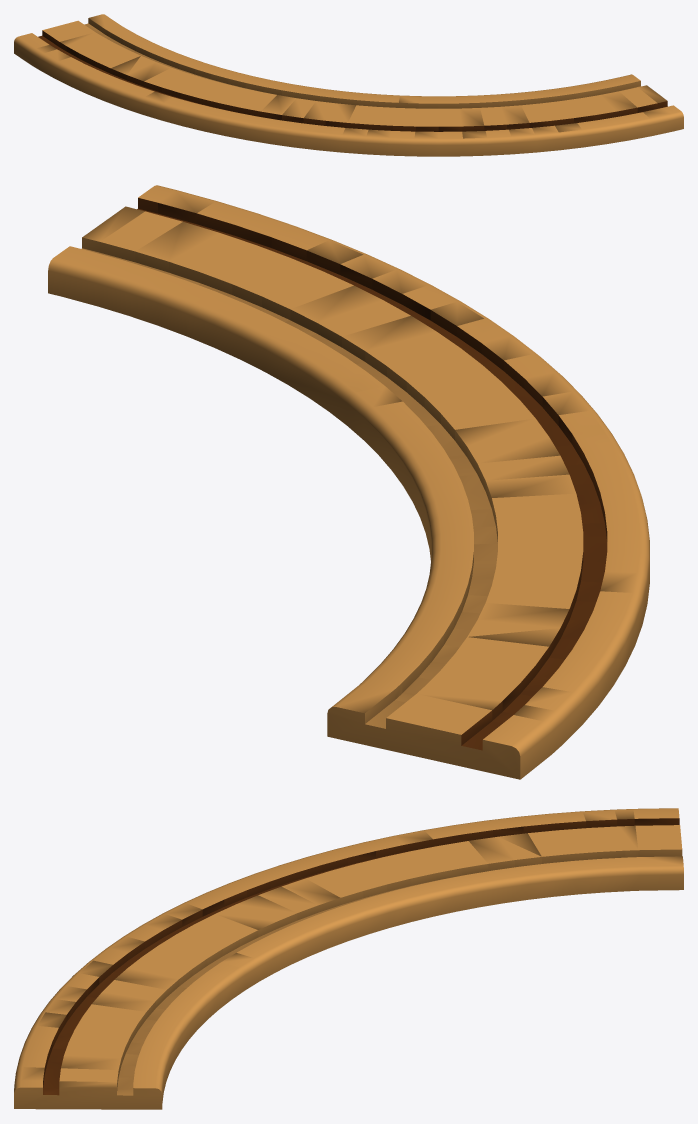
The model's file is TightLeft.fbx.
The picture shows the model from 3 angles, top to bottom: view 1: azimuth 30°, elevation 25°; view 2: azimuth 150°, elevation 25°; view 3: azimuth 270°, elevation 25°; orthographic projection. The views are drawn at different scales.
Visible parts, largest first — view 1: TightLeft; view 2: TightLeft; view 3: TightLeft.
Boxes of the visible parts, left/top/right/bottom form: TightLeft: left=14, top=14, right=683, bottom=156; TightLeft: left=48, top=185, right=649, bottom=779; TightLeft: left=14, top=808, right=683, bottom=1109.
Bounding box in the file's own units: 4.51 × 0.16 × 4.52.
